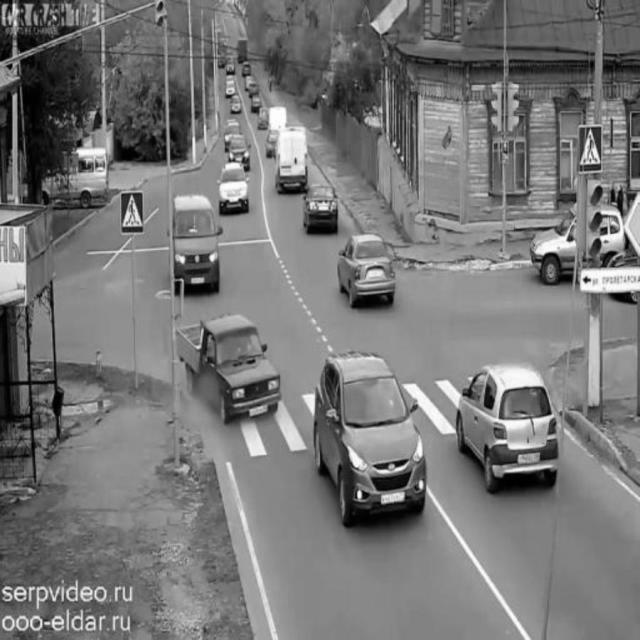vehicle: (307, 355, 428, 507), (459, 366, 559, 488), (181, 317, 281, 415), (534, 211, 622, 281), (38, 142, 111, 206), (173, 194, 218, 292), (339, 234, 400, 305), (277, 129, 309, 195), (305, 182, 341, 232), (222, 161, 248, 208), (227, 132, 251, 168), (250, 93, 265, 113), (242, 56, 252, 80), (224, 54, 236, 74), (231, 95, 241, 111)
